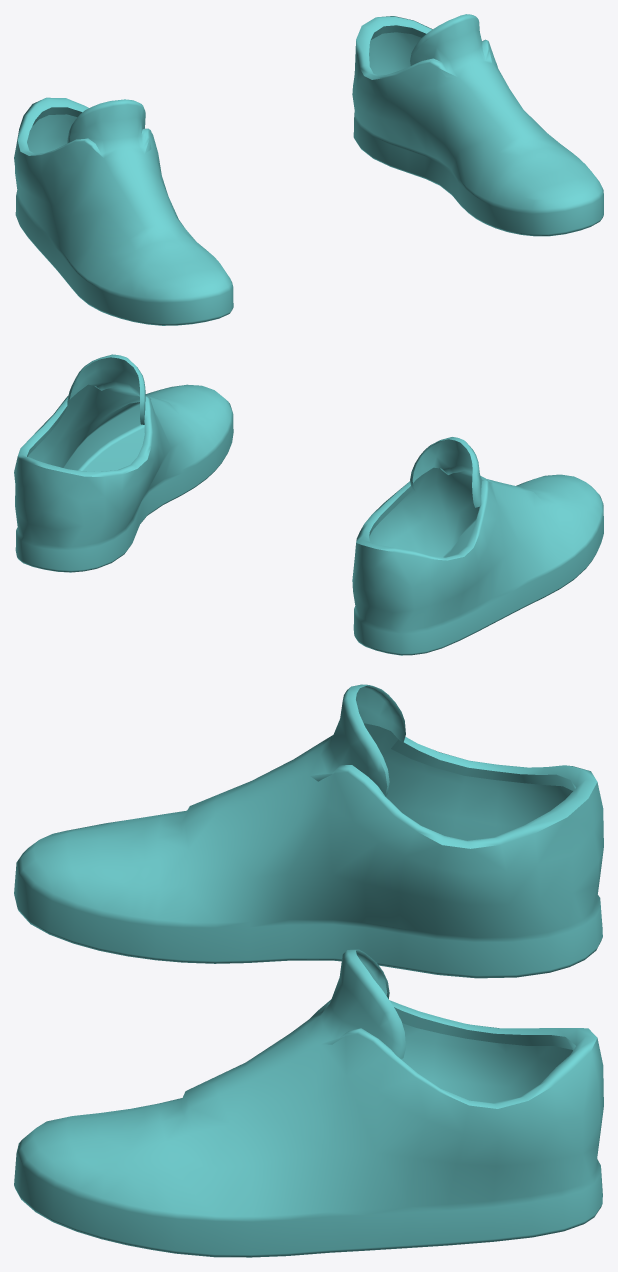
The model's file is uploads_files_664500_obj (5) 1.fbx.
The picture shows the model from 3 angles, top to bottom: view 1: azimuth 30°, elevation 25°; view 2: azimuth 150°, elevation 25°; view 3: azimuth 270°, elevation 25°; orthographic projection. The views are drawn at different scales.
Visible parts, largest first — view 1: shoes; view 2: shoes; view 3: shoes.
Part boxes in pixels (bbox=[...]): shoes: bbox=[14, 14, 603, 325]; shoes: bbox=[14, 354, 603, 655]; shoes: bbox=[14, 684, 603, 1257].
Size of the model in its own units: 4388 by 1373 by 2890.
